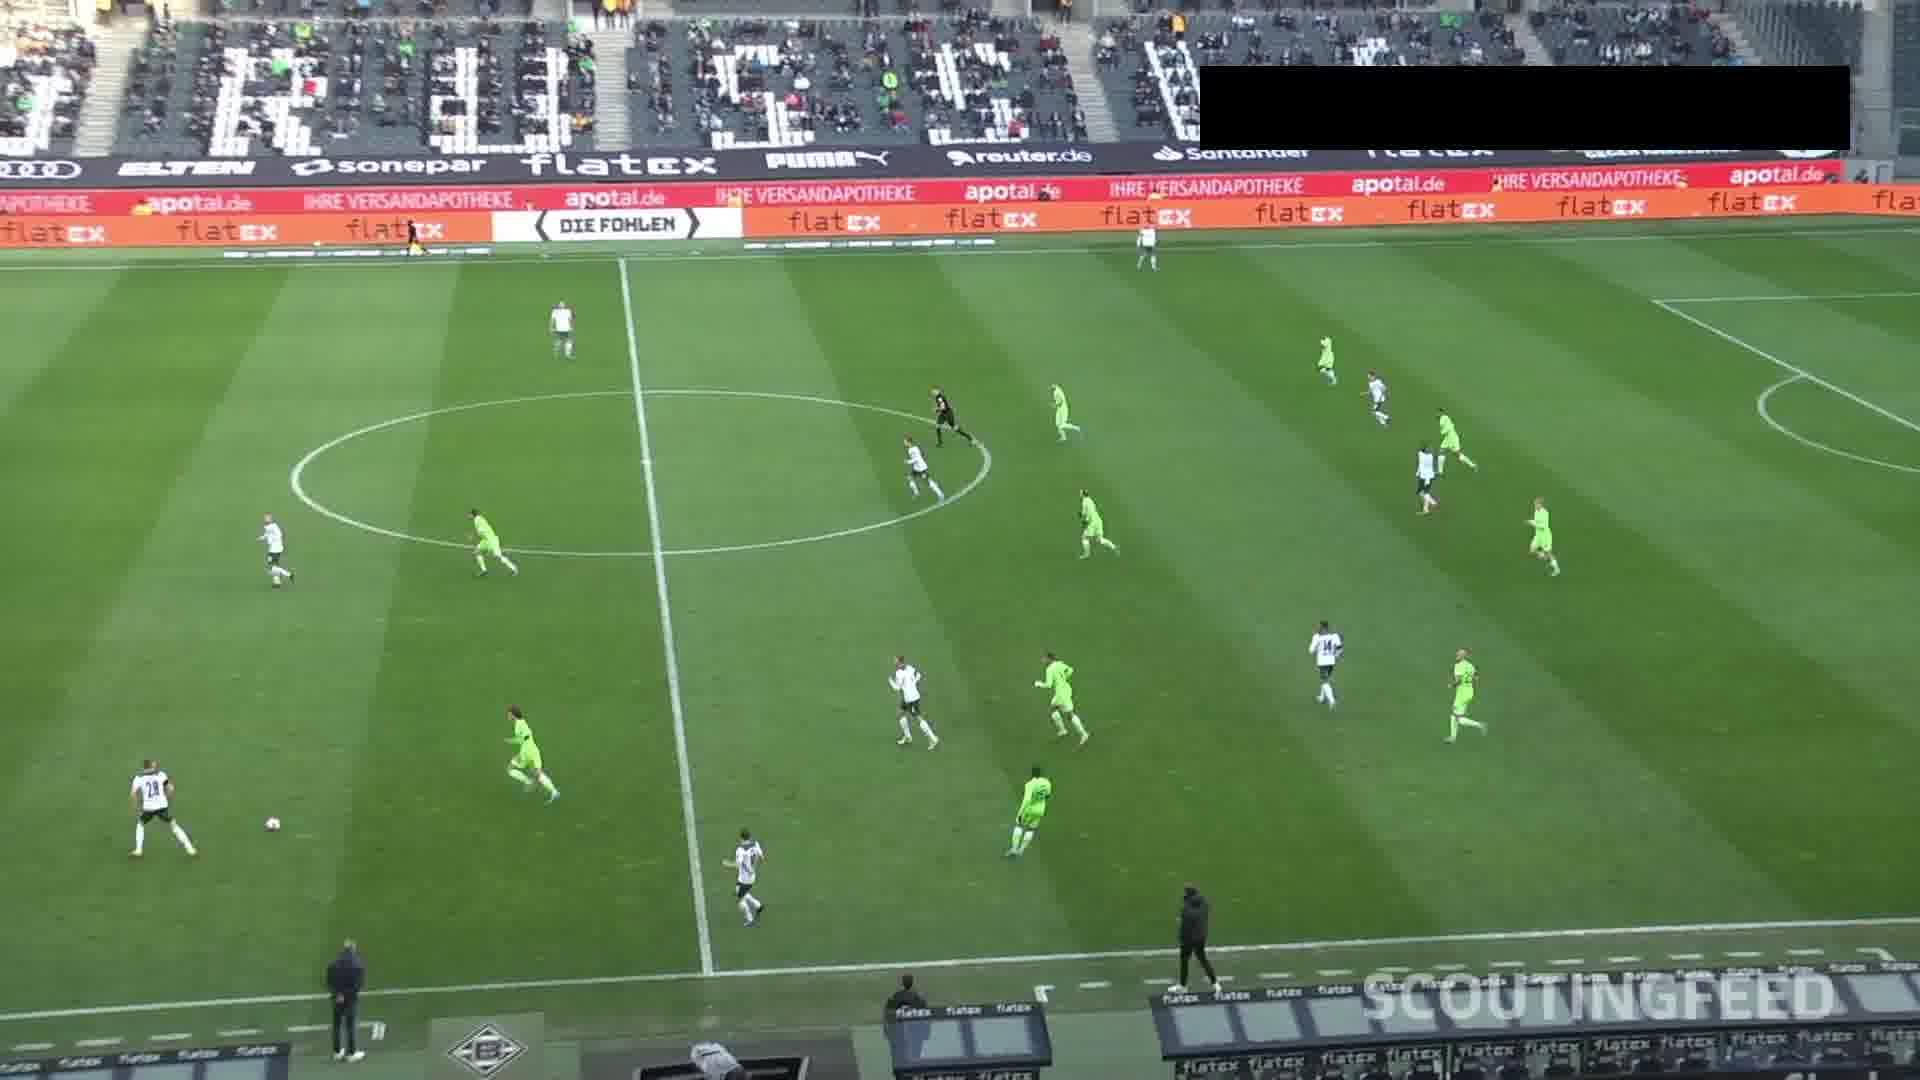football: (264, 815, 281, 833)
